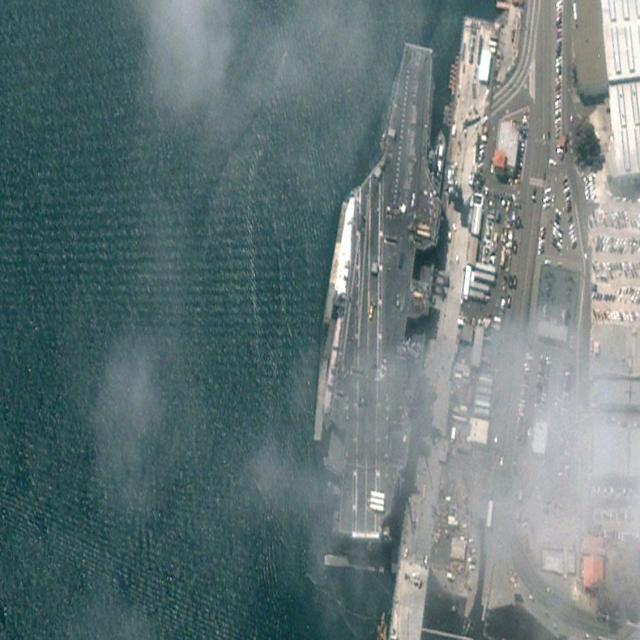Aircraft Carrier: (295, 30, 464, 555)
